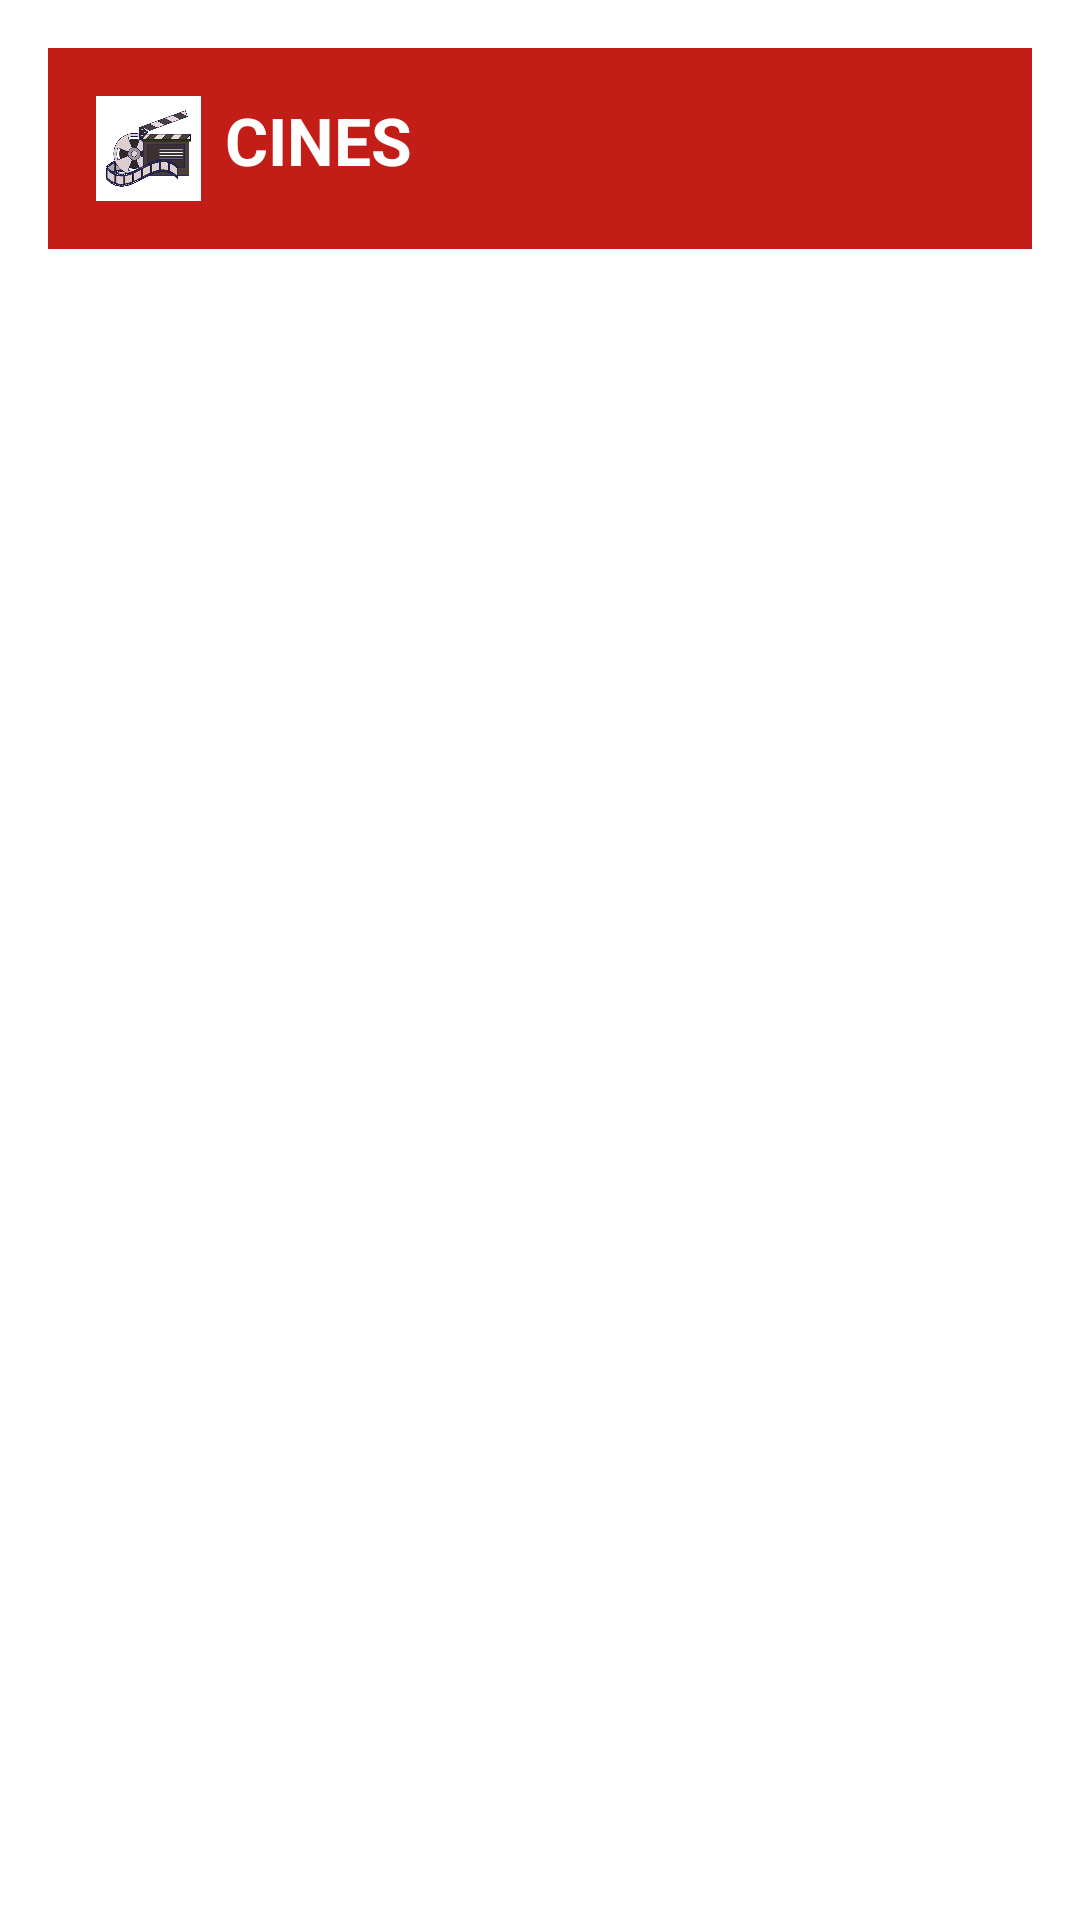

Locate icon controls on the screen. Image size 1080 × 1920, boxes as box=[x1, y1, x2, y2].
cinema: box=[96, 96, 201, 201]
